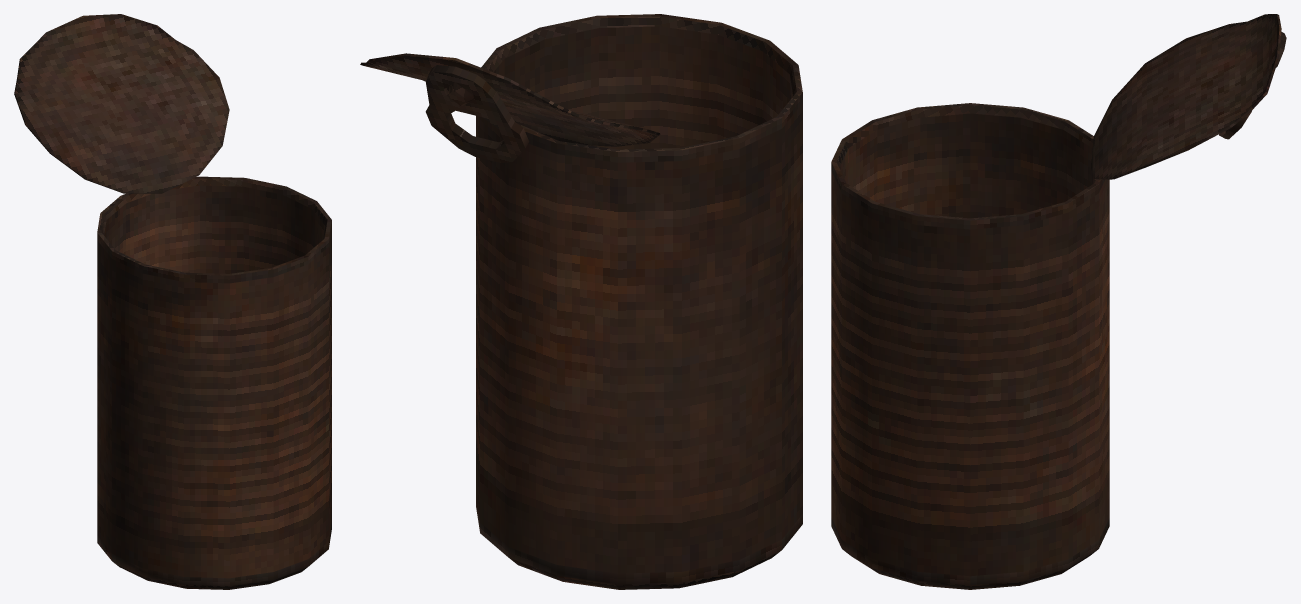
The model's file is tin_can_mp_1_rusty_1.glb.
3 views of the same model, side by side, from view 1: azimuth 30°, elevation 25°; view 2: azimuth 150°, elevation 25°; view 3: azimuth 270°, elevation 25° (orthographic). The views are drawn at different scales.
Visible parts, largest first — view 1: tin_can_mp_1_rusty_1; view 2: tin_can_mp_1_rusty_1; view 3: tin_can_mp_1_rusty_1.
Boxes of the visible parts, left/top/right/bottom form: tin_can_mp_1_rusty_1: left=14, top=14, right=331, bottom=589; tin_can_mp_1_rusty_1: left=360, top=14, right=802, bottom=589; tin_can_mp_1_rusty_1: left=831, top=14, right=1286, bottom=589.
Bounding box in the file's own units: 0.112 × 0.2256 × 0.1833.
1 material, 1 textured.
